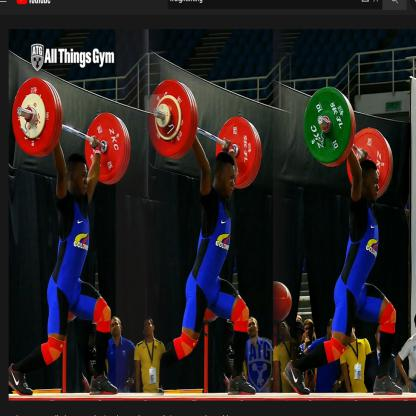Barbell: (8, 73, 66, 165), (298, 80, 357, 170), (145, 75, 202, 162)
